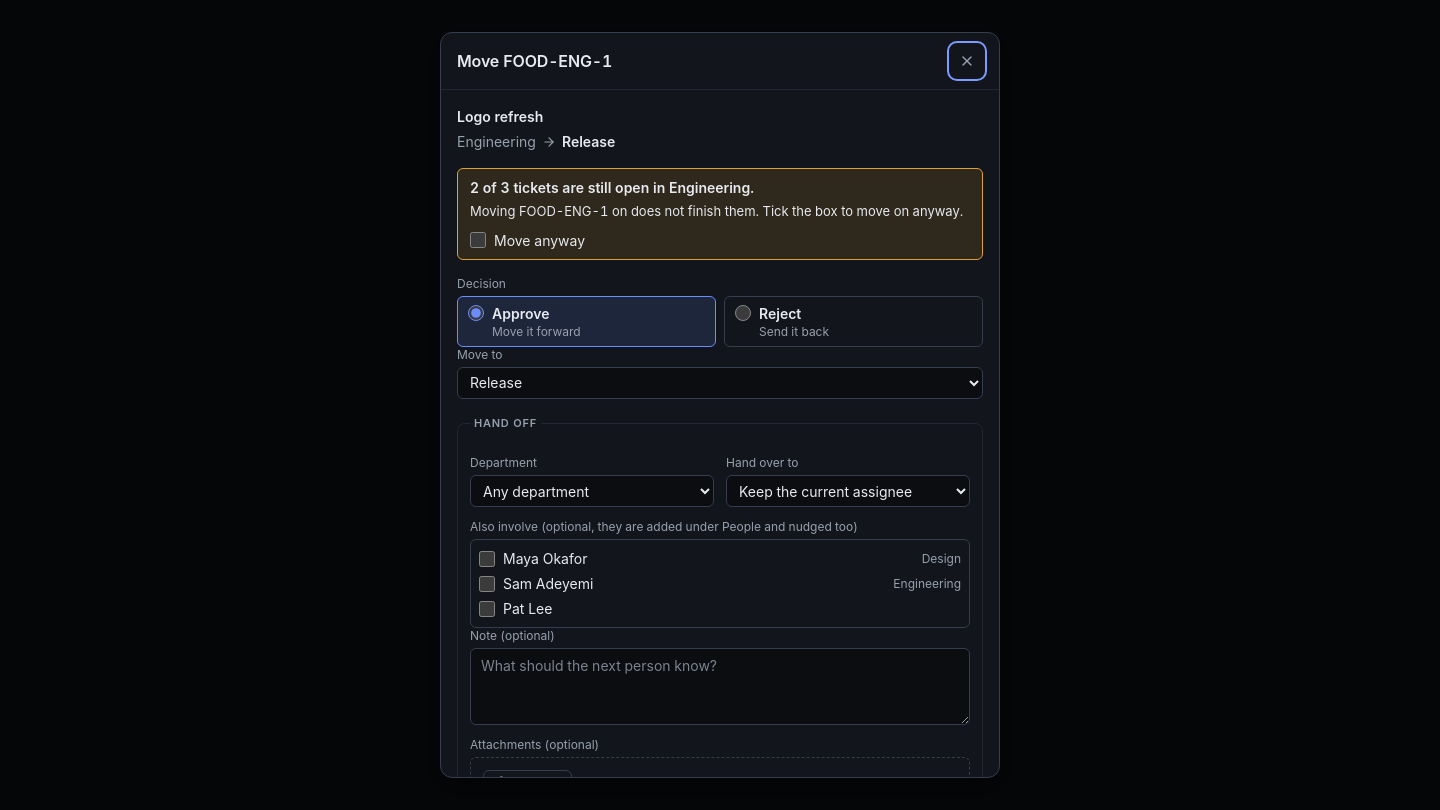
the handoff dialog for a feature on a pipeline › warns when tickets tagged with the phase are open, and needs Move anyway
This screenshot has width=1440, height=810.
Later steps or results of the test are not shown.
Expected: the element named "Open tickets in this phase" shows "2 of 3 tickets are still open in Engineering.", [457, 168, 983, 260]
Step 1. Click the checkbox labelled "Move anyway" → point(478, 240), box [470, 232, 486, 248]
(page scrolled)
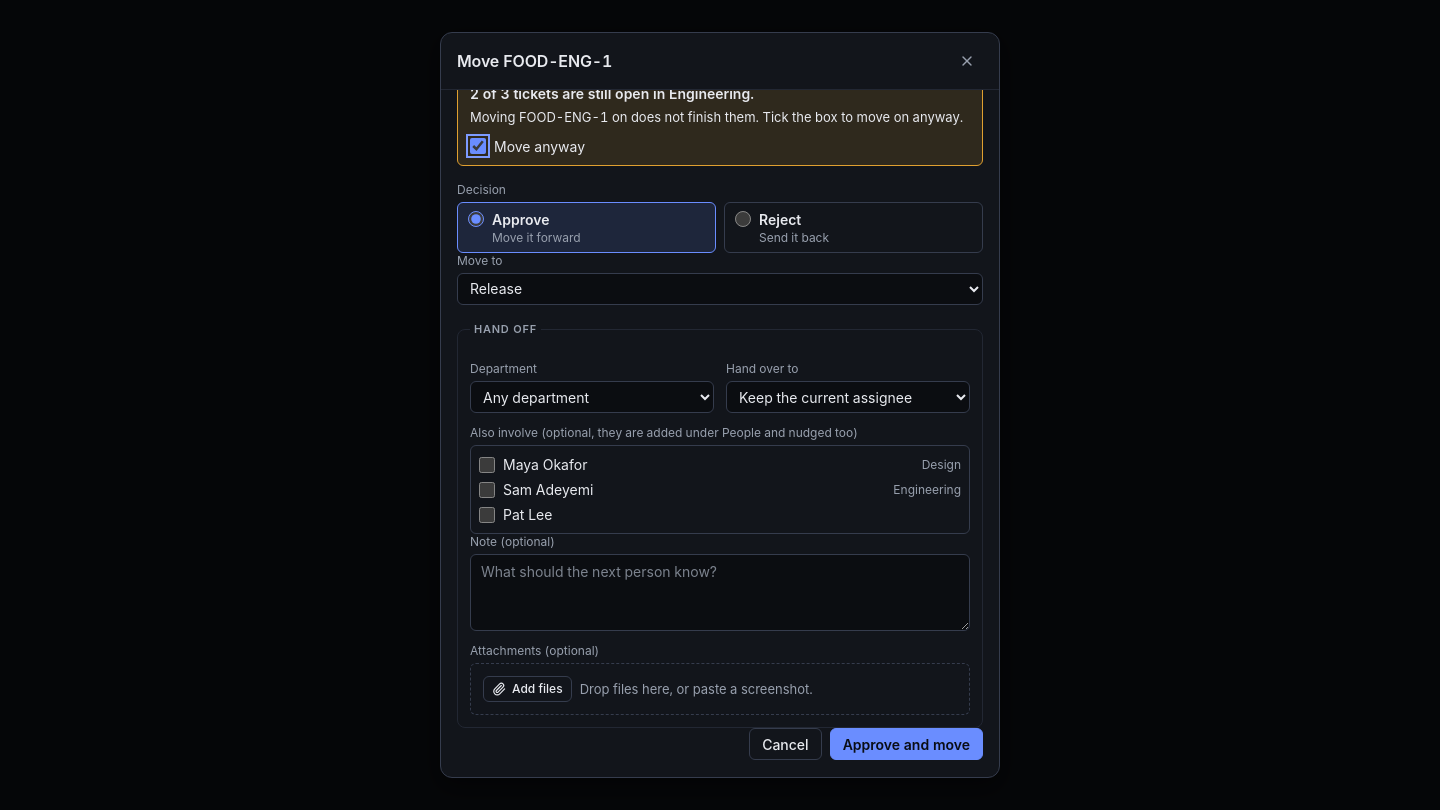
Expected: the button "Approve and move" is enabled, [830, 728, 983, 760]
